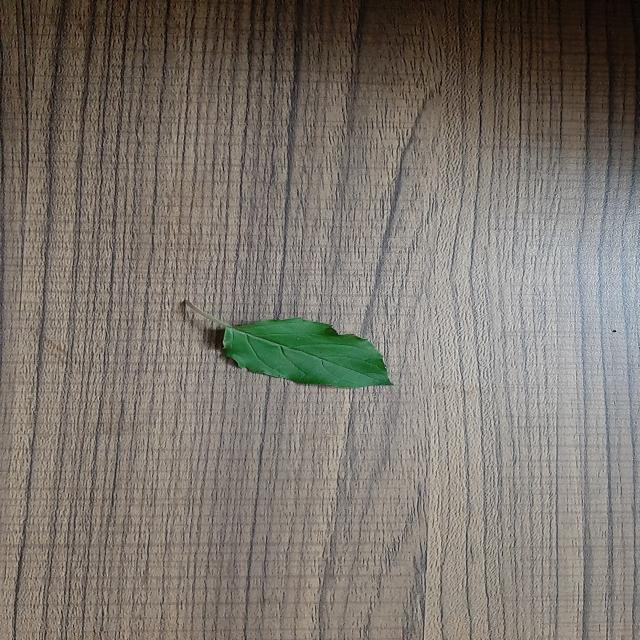tulsi: (187, 301, 390, 388)
